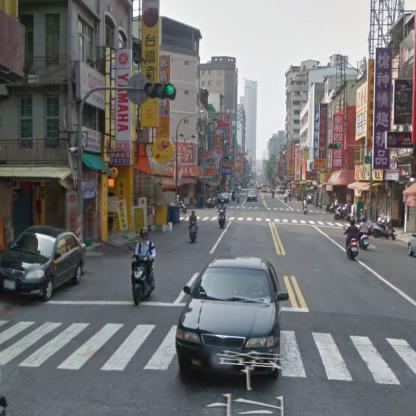Green Light: (142, 81, 177, 98)
